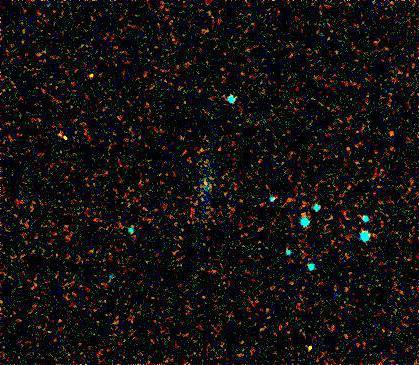star: (190, 167, 220, 197)
